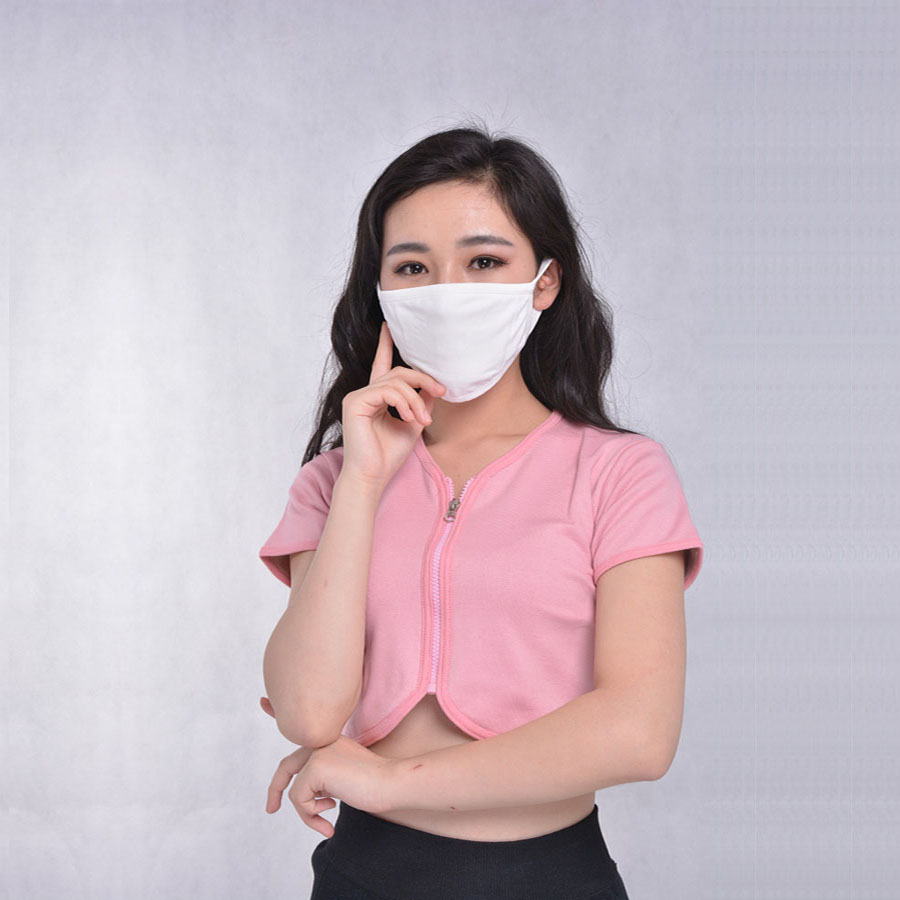face_mask: (378, 180, 537, 387)
